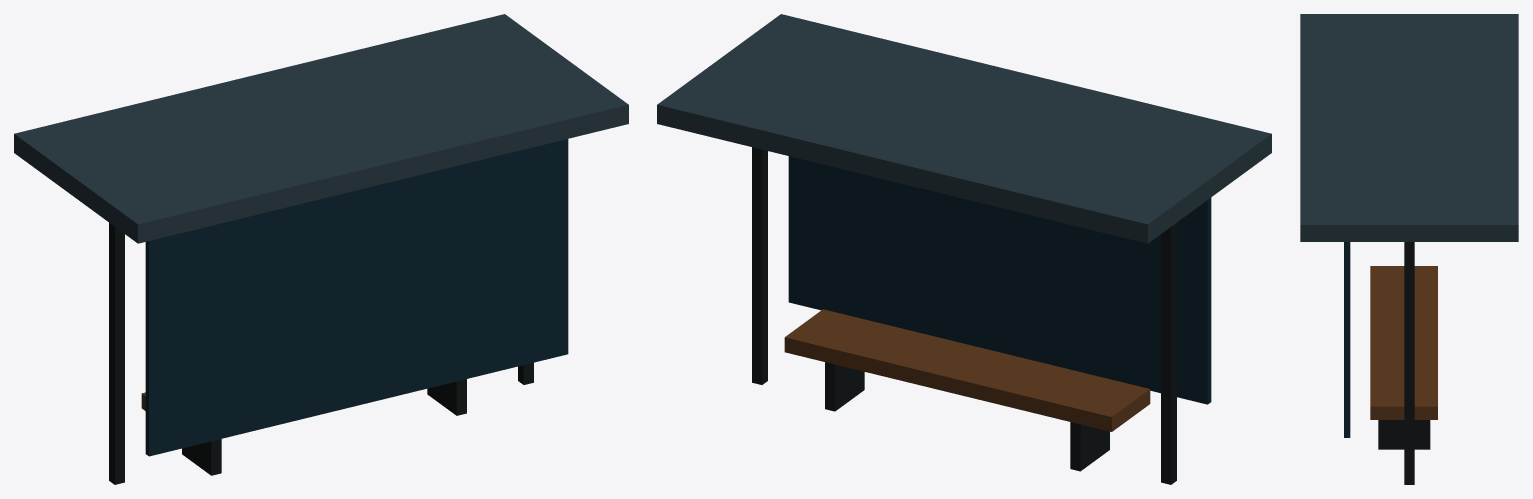
The model's file is bus_shelter.obj.
The picture shows the model from 3 angles, left to right: view 1: azimuth 30°, elevation 25°; view 2: azimuth 150°, elevation 25°; view 3: azimuth 270°, elevation 25°; orthographic projection. The views are drawn at different scales.
Visible parts, largest first — view 1: Window_Glass, Roof_Metal, Dark_Frame; view 2: Roof_Metal, Window_Glass, Wood, Dark_Frame; view 3: Roof_Metal, Wood, Dark_Frame, Window_Glass.
Part boxes in pixels (x1=…): Window_Glass: x1=145, y1=139, x2=568, y2=456; Roof_Metal: x1=14, y1=14, x2=628, y2=243; Dark_Frame: x1=109, y1=222, x2=533, y2=484; Roof_Metal: x1=657, y1=14, x2=1271, y2=243; Window_Glass: x1=788, y1=156, x2=1211, y2=404; Wood: x1=784, y1=309, x2=1150, y2=431; Dark_Frame: x1=752, y1=147, x2=1176, y2=484; Roof_Metal: x1=1300, y1=14, x2=1518, y2=241; Wood: x1=1370, y1=266, x2=1437, y2=419; Dark_Frame: x1=1378, y1=242, x2=1430, y2=484; Window_Glass: x1=1344, y1=242, x2=1350, y2=437.
Bounding box in the file's own units: 4.8 × 2.92 × 2.1.
